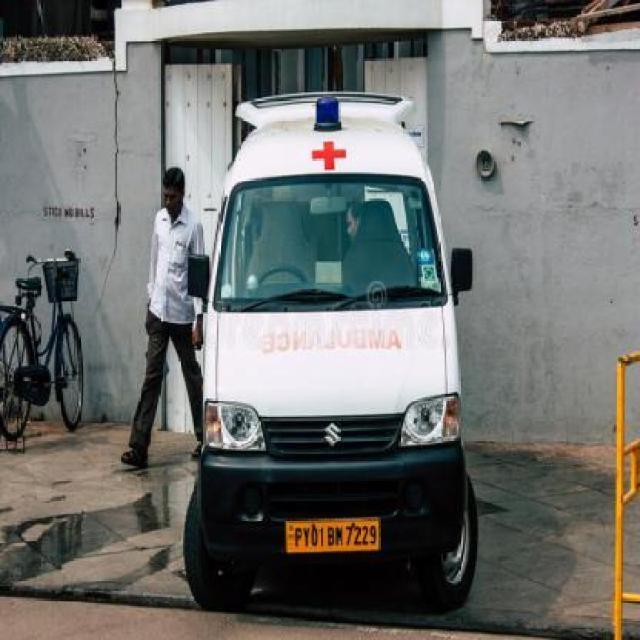Ambulance: (178, 88, 482, 616), (0, 410, 638, 638)
